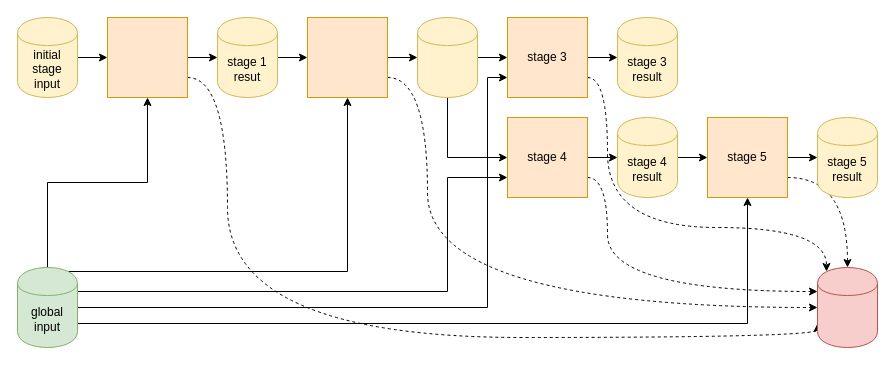
The diagram is 895 pixels wide and 365 high, and some of its shapes have lost their labels. Each missing label, with the box of its shape:
global output: (816, 266, 878, 348)
stage 1: (106, 16, 188, 98)
stage 2: (306, 16, 388, 98)
stage 2 result: (416, 16, 478, 98)
